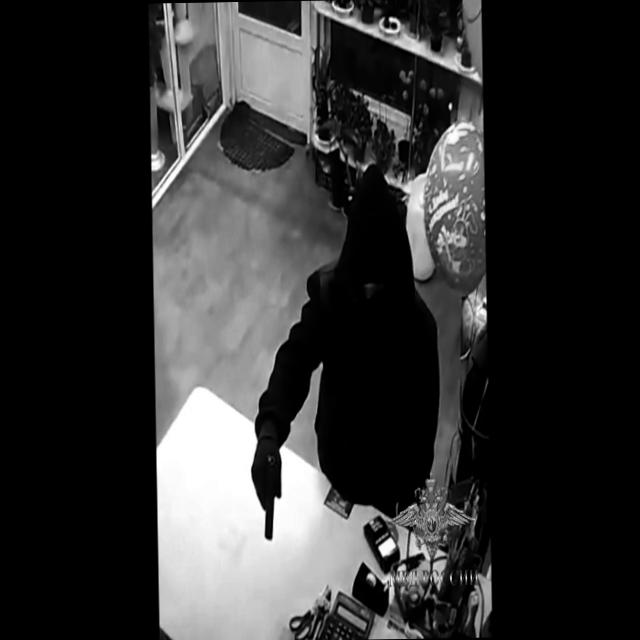gun: (251, 442, 288, 546)
person with a gun: (244, 177, 446, 544)
